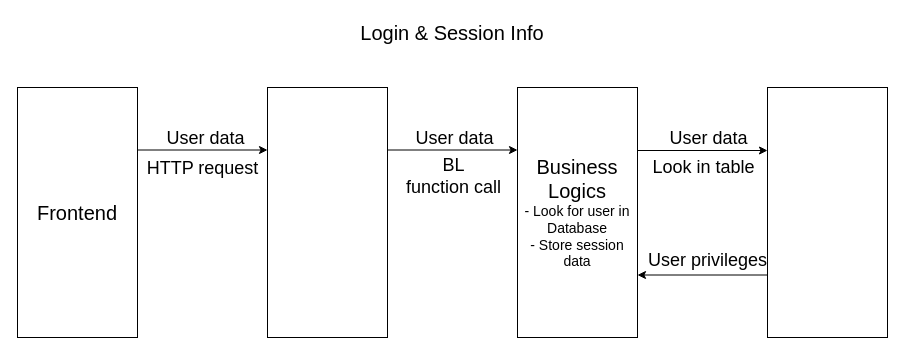
Image size: 905x355. Some labels were removed from this diagram. The shapes that lost their labels are listed below. From the top down, each one's centre as x and y in pixels, then its label:
At (327,212): "API".
At (827,212): "Database".
